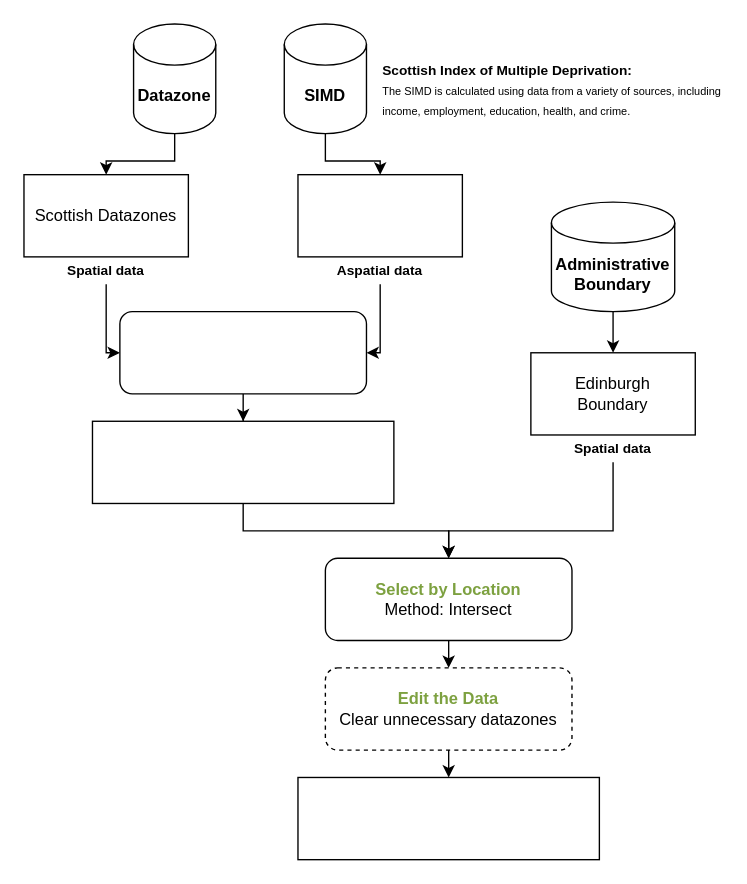
Image size: 747x884. Some labels were removed from this diagram. Here are the shapes that lost their labels. From the top down, the centre of each, then its label:
point (379, 215): Socioeconomic Attributes Table
point (242, 352): Join Attributes by Field Table Shared ID: Datazone
point (242, 461): Scottish Datazones with Socioeconomic attributes
point (448, 818): Edinburgh's Datazones with Socioeconomic attributes
